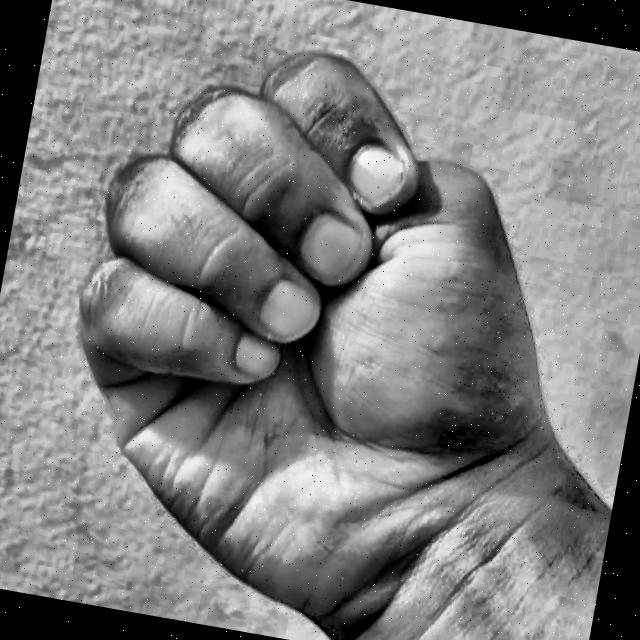To: (9, 0, 617, 640)
